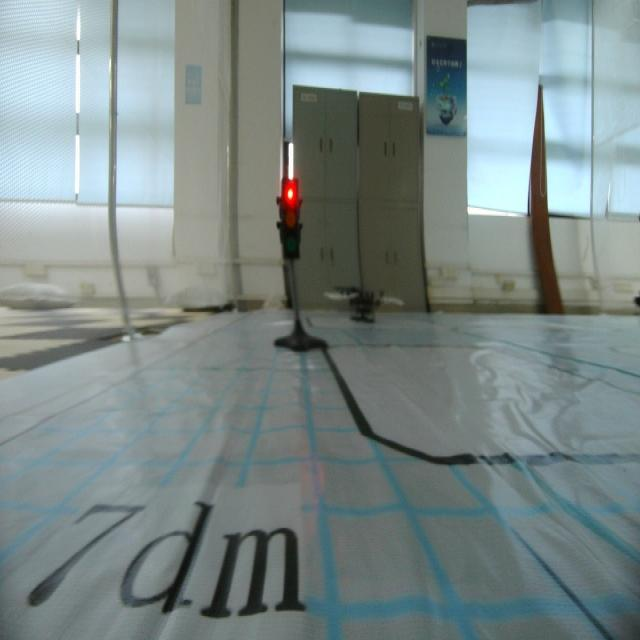red: (277, 178, 305, 266)
